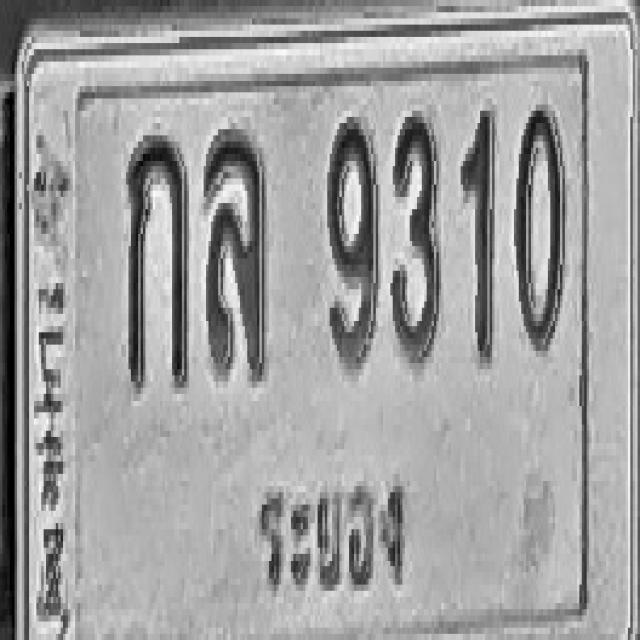0: (514, 101, 565, 354)
1: (460, 105, 494, 363)
10GorGai: (125, 129, 188, 388)
3: (391, 108, 442, 366)
45LorLing: (204, 126, 266, 379)
9: (326, 114, 377, 372)
Rayong: (248, 456, 420, 608)
